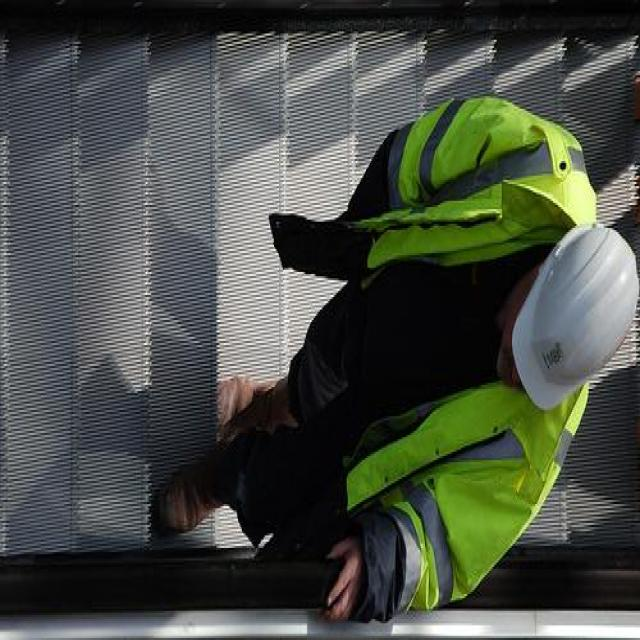Reflective-Jacket: (315, 88, 607, 617)
Safety-Helmet: (512, 222, 639, 412)
